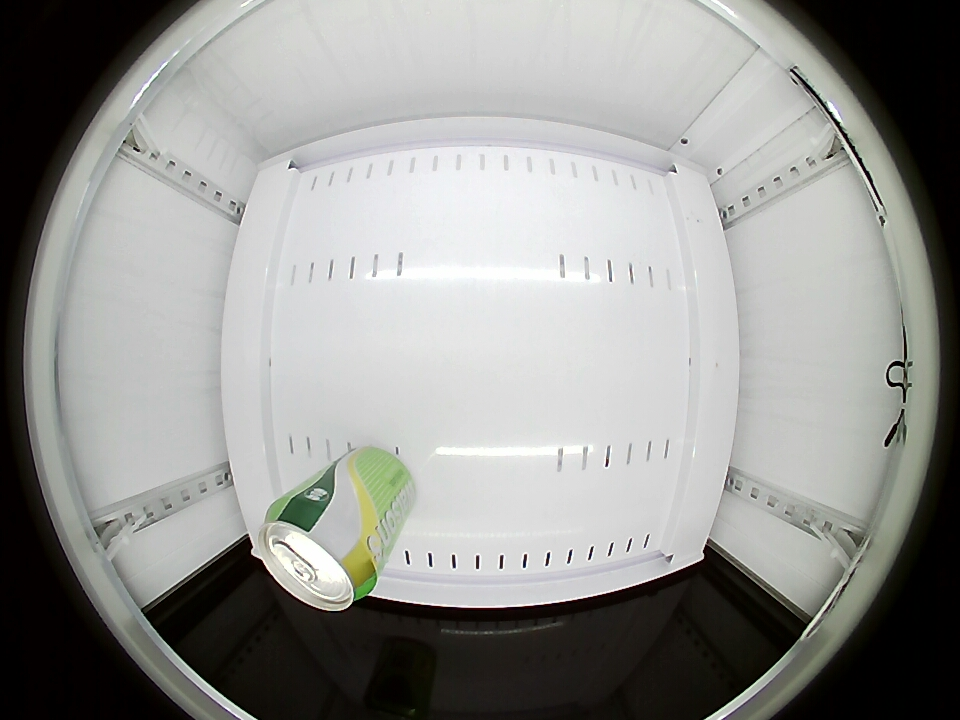quchenshixiangcao: (256, 497, 376, 612)
